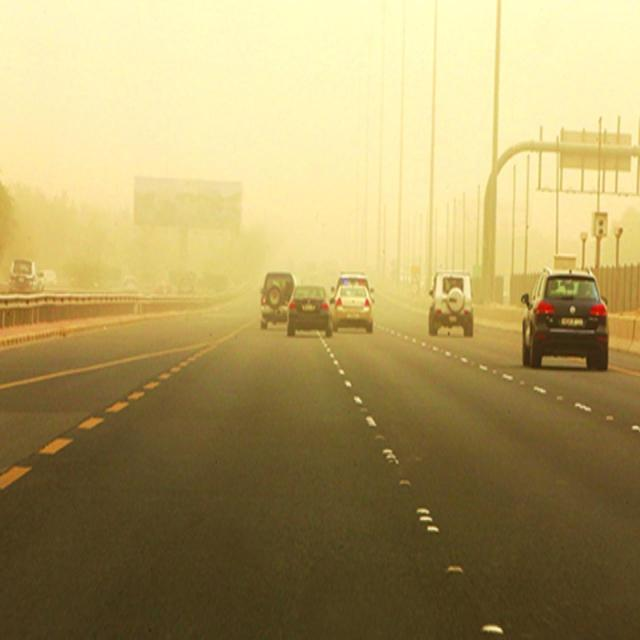Car: (522, 270, 612, 371), (428, 270, 476, 338), (288, 284, 336, 336), (259, 270, 297, 320), (334, 287, 375, 332)
